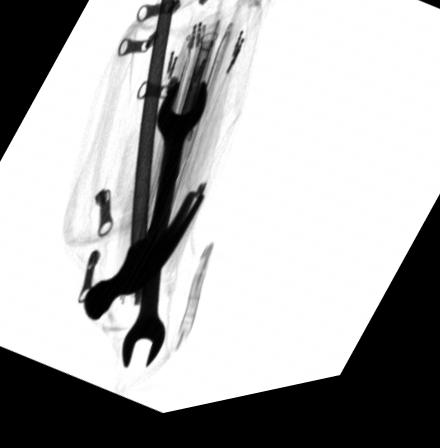Hammer: (83, 0, 207, 326)
Wrench: (120, 86, 211, 377)
